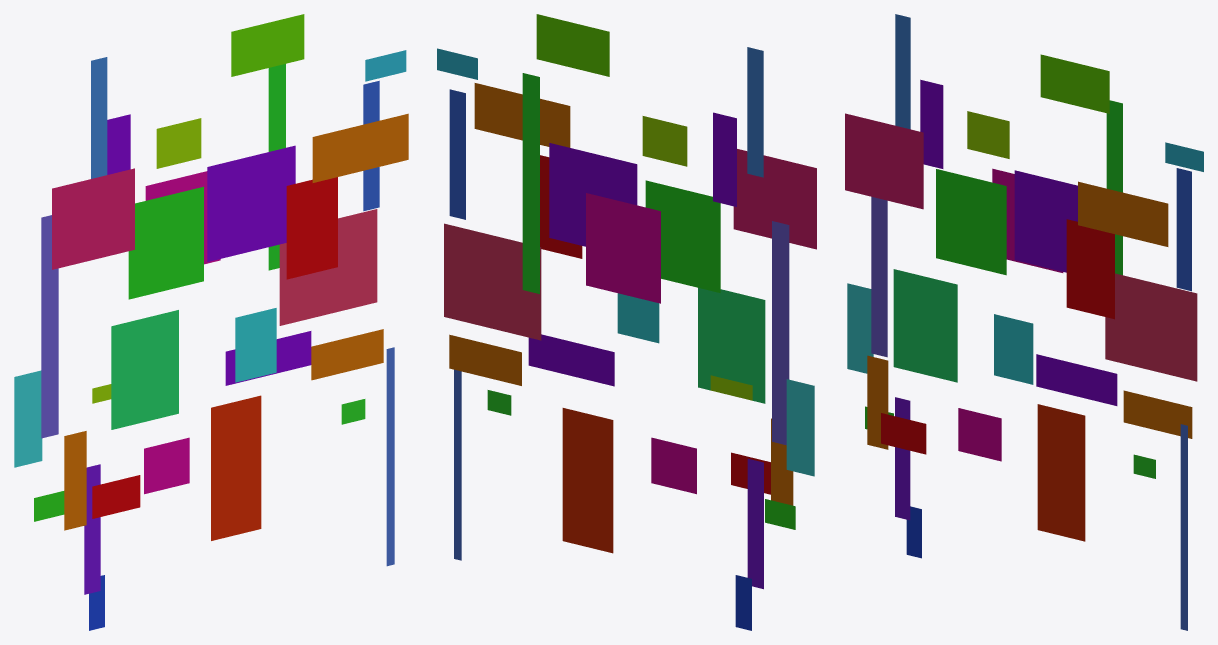
The model's file is LegacySpace.fbx.
3 views of the same model, side by side, from view 1: azimuth 30°, elevation 25°; view 2: azimuth 150°, elevation 25°; view 3: azimuth 330°, elevation 25° (orthographic). The views are drawn at different scales.
Parts seen in each view (by area): view 1: LegacySpace; view 2: LegacySpace; view 3: LegacySpace.
Boxes of the visible parts, <box> form: LegacySpace: <box>14,14,408,630</box>; LegacySpace: <box>437,14,816,630</box>; LegacySpace: <box>845,14,1203,630</box>.
Bounding box in the file's own units: 217 × 313 × 42.91.
